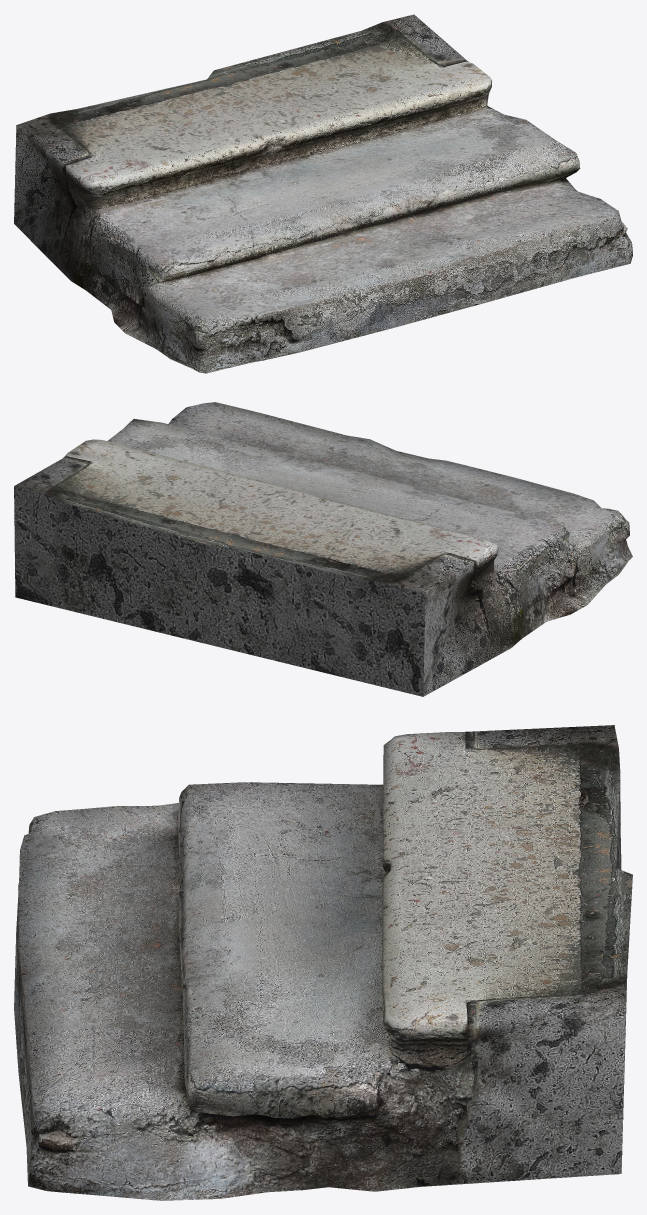
3 renders of one model, top to bottom at view 1: azimuth 30°, elevation 25°; view 2: azimuth 150°, elevation 25°; view 3: azimuth 270°, elevation 25°, orthographic. The views are drawn at different scales.
Visible parts, largest first — view 1: Stairs_03_LOD0; view 2: Stairs_03_LOD0; view 3: Stairs_03_LOD0.
Boxes of the visible parts, x1,y1,x2,y2 form: Stairs_03_LOD0: (14,14,632,373); Stairs_03_LOD0: (14,402,632,696); Stairs_03_LOD0: (14,725,632,1200).
Bounding box in the file's own units: 1283 × 302 × 980.
Materials: 1 (1 with a texture image).
